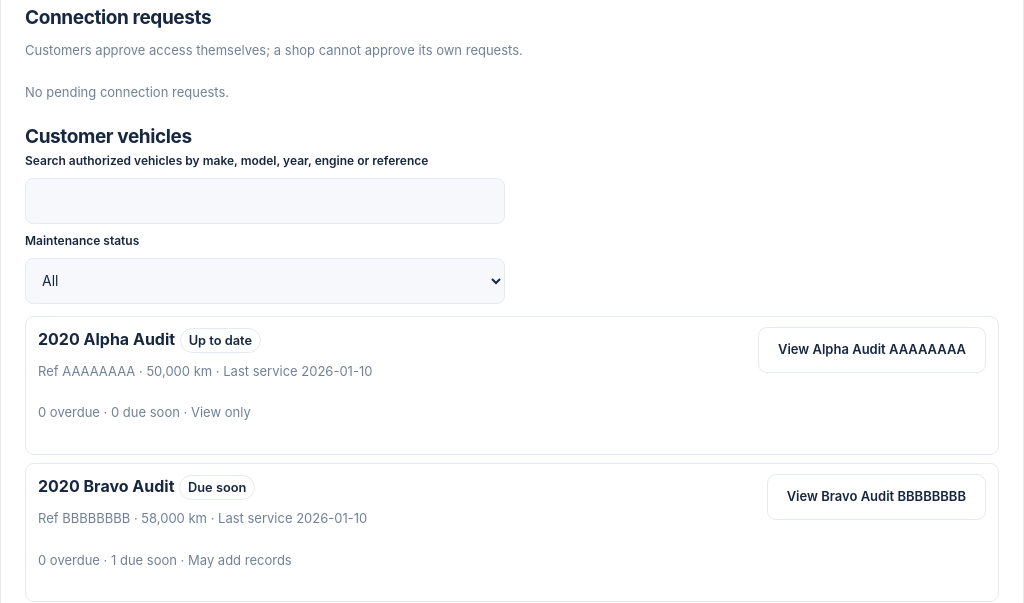
Test case: removes customer data when access is revoked while a vehicle is open
Check: the text "2020 Alpha Audit" is shown, box [38,329,175,349]
Click the button "View Alpha Audit AAAAAAAA": (872, 350) [758,327,986,373]
(page scrolled)
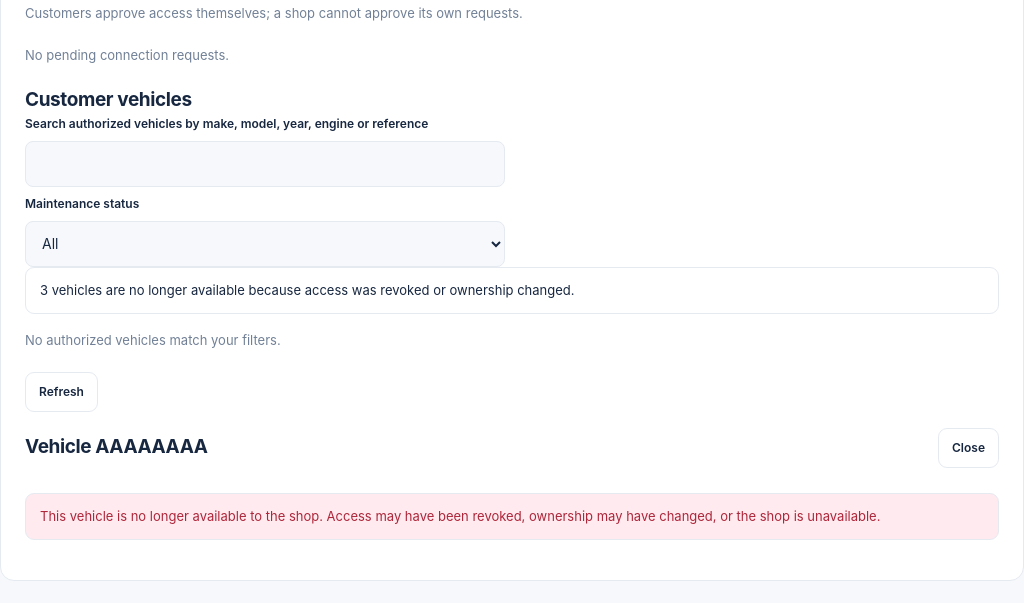
Check: the text "no longer available to the shop" is shown, box [40,508,880,524]
